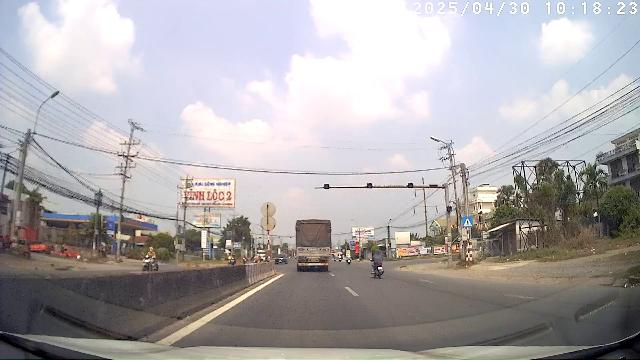423a-duong-nguoi-di-bo-sang-ngang-1: (463, 217, 472, 227)
